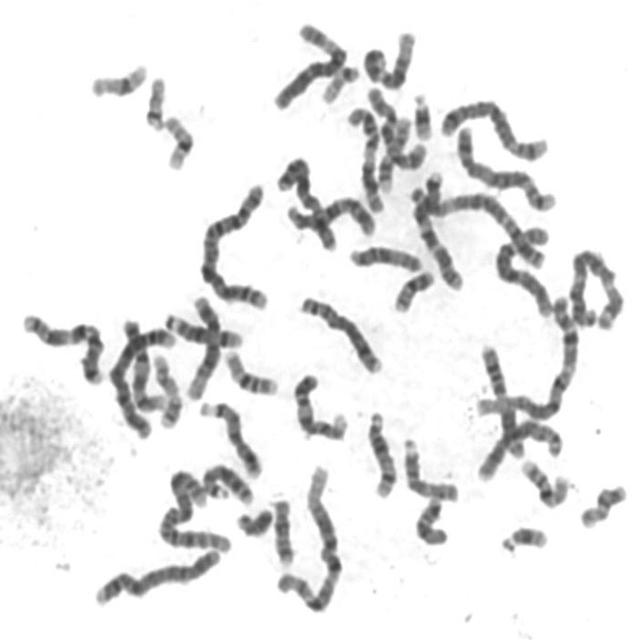A1: (472, 287, 582, 424), (270, 458, 346, 616)
A2: (194, 175, 274, 312), (153, 462, 235, 555)
A3: (405, 174, 550, 271), (563, 240, 628, 332)
B4: (89, 543, 225, 609), (104, 318, 177, 440)
B5: (453, 117, 559, 214), (434, 91, 552, 164)
C10: (363, 81, 429, 171), (281, 190, 380, 238)
C11: (475, 338, 528, 460), (342, 100, 388, 216)
C12: (181, 289, 224, 401), (358, 24, 419, 92)
C6: (268, 14, 350, 112), (489, 219, 556, 319)
C7: (17, 304, 108, 386), (407, 170, 468, 292)
C8: (294, 289, 386, 376), (476, 419, 568, 485)
C9: (116, 312, 168, 415), (288, 367, 351, 443)
D13: (193, 395, 264, 480), (198, 456, 256, 508)
D14: (361, 403, 400, 501), (160, 306, 245, 350)
D15: (397, 430, 463, 504), (344, 239, 424, 275)
E16: (219, 343, 281, 398), (515, 451, 572, 510)
E17: (374, 110, 414, 194), (147, 348, 184, 431)
E18: (267, 489, 298, 568), (410, 491, 451, 548)
F19: (84, 54, 151, 100), (158, 108, 197, 172)
F20: (575, 477, 630, 531), (388, 263, 437, 315)
G21: (494, 519, 551, 557), (408, 86, 436, 143)
G22: (316, 58, 362, 106), (140, 68, 169, 132)
X: (272, 149, 341, 253)
Y: (232, 502, 275, 538)
